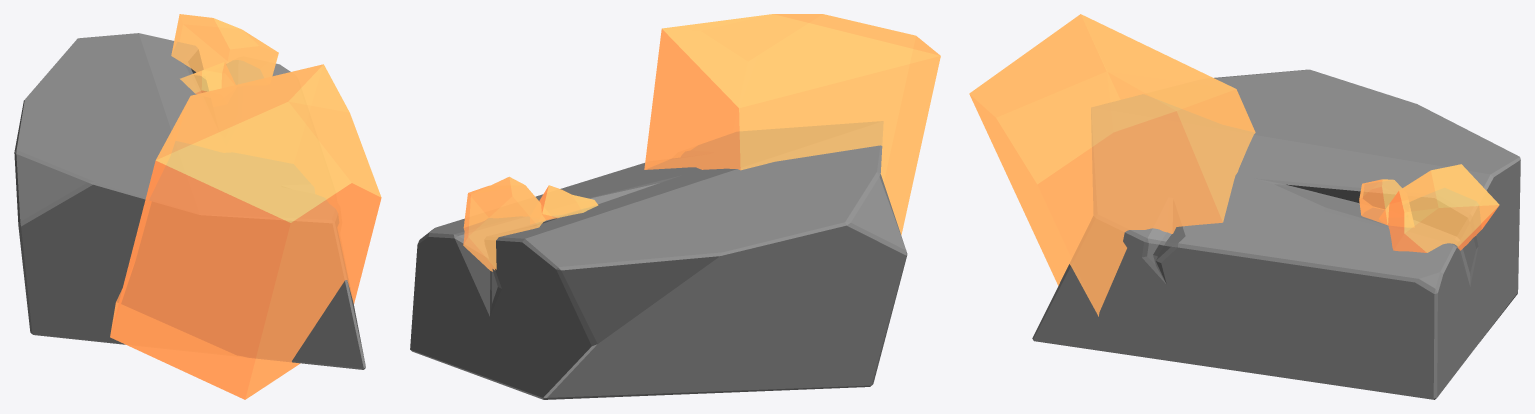
The model's file is Orange ore 2.fbx.
3 renders of one model, left to right at view 1: azimuth 30°, elevation 25°; view 2: azimuth 150°, elevation 25°; view 3: azimuth 270°, elevation 25°, orthographic. The views are drawn at different scales.
Parts seen in each view (by area): view 1: Rock .013, Cylinder.048, Cylinder.047, Cylinder.052; view 2: Rock .013, Cylinder.048, Cylinder.047, Cylinder.052; view 3: Rock .013, Cylinder.048, Cylinder.047, Cylinder.052.
Boxes of the visible parts, left/top/right/bottom form: Rock .013: left=14, top=33, right=365, bottom=369; Cylinder.048: left=110, top=64, right=381, bottom=399; Cylinder.047: left=171, top=14, right=278, bottom=84; Cylinder.052: left=180, top=62, right=235, bottom=93; Rock .013: left=410, top=121, right=907, bottom=399; Cylinder.048: left=644, top=14, right=940, bottom=234; Cylinder.047: left=463, top=176, right=552, bottom=271; Cylinder.052: left=539, top=185, right=598, bottom=220; Rock .013: left=1032, top=69, right=1520, bottom=399; Cylinder.048: left=969, top=14, right=1255, bottom=316; Cylinder.047: left=1379, top=164, right=1499, bottom=252; Cylinder.052: left=1359, top=179, right=1413, bottom=225.
Bounding box in the file's own units: 30.35 × 20.71 × 38.48.
